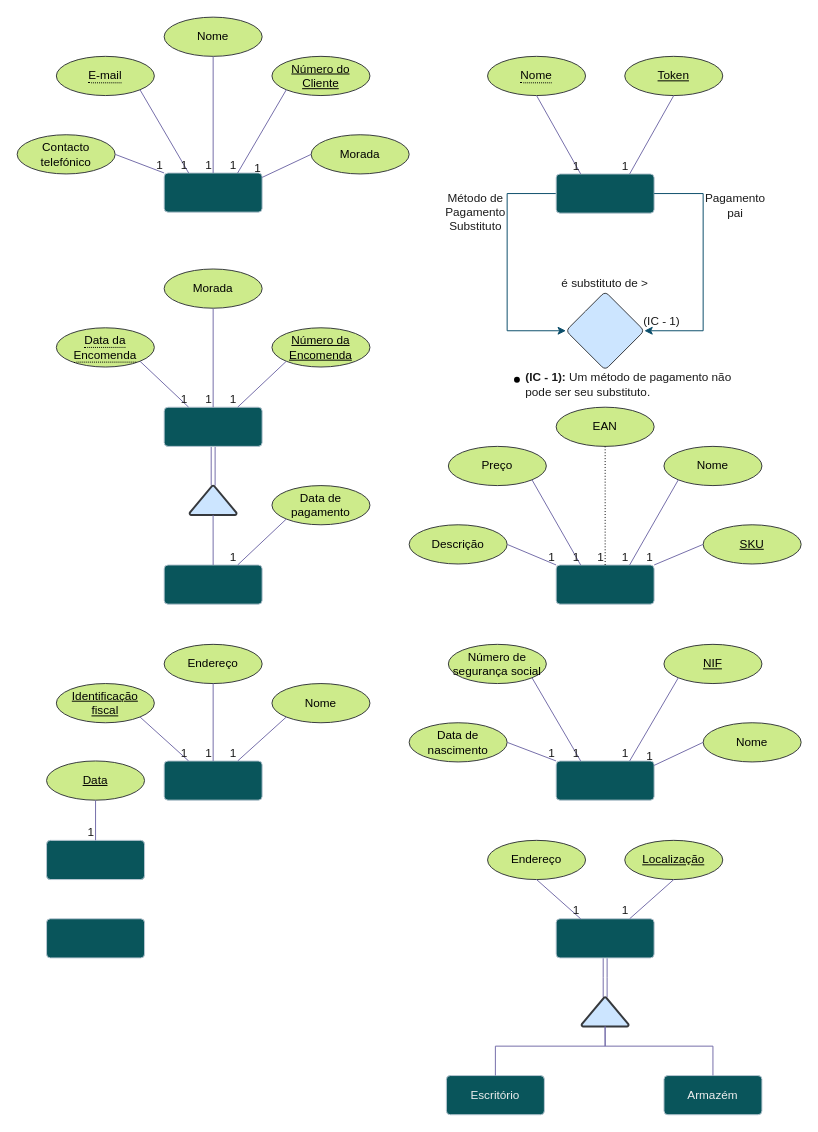
The diagram is 818 pixels wide and 1132 high, and some of its shapes have lost their labels. The centre of each missing label's shape, as x and y in pixels:
"Cliente" goes at [212,192].
"Contrato" goes at [95,859].
"Departamento" goes at [95,938].
"Empregado" goes at [604,780].
"Encomenda" goes at [212,426].
"Fornecedor" goes at [212,780].
"Locais de trabalho" goes at [604,938].
"Método de pagamento" goes at [604,193].
"Produto" goes at [604,584].
"Venda" goes at [212,584].
